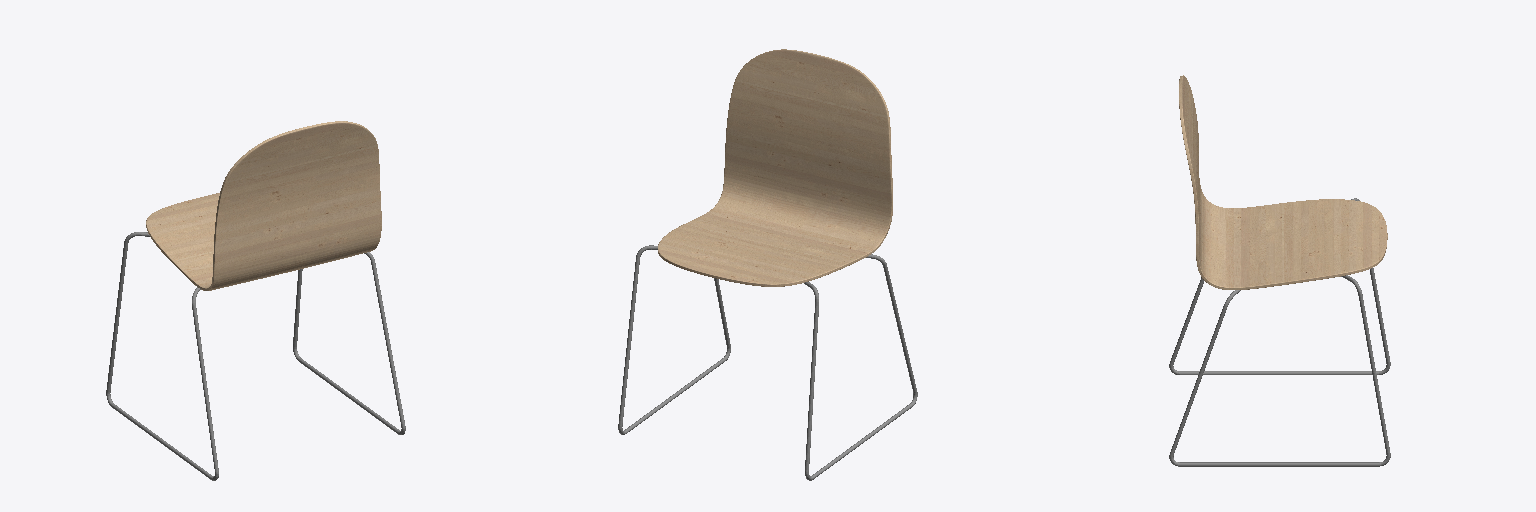
The picture shows the model from 3 angles: view 1: azimuth 30°, elevation 25°; view 2: azimuth 150°, elevation 25°; view 3: azimuth 270°, elevation 25°; orthographic projection.
Visible parts, largest first — view 1: Obj3d66_478477_3_156, Obj3d66_478477_4_454; view 2: Obj3d66_478477_3_156, Obj3d66_478477_4_454; view 3: Obj3d66_478477_3_156, Obj3d66_478477_4_454.
Part boxes in pixels (x1,y1,x2,y2): Obj3d66_478477_3_156: (146, 121, 381, 290); Obj3d66_478477_4_454: (106, 232, 405, 480); Obj3d66_478477_3_156: (658, 49, 892, 286); Obj3d66_478477_4_454: (618, 245, 917, 480); Obj3d66_478477_3_156: (1179, 75, 1387, 289); Obj3d66_478477_4_454: (1169, 198, 1390, 466).
Bounding box in the file's own units: 19.25 × 31.82 × 19.37.
1 materials, 1 textured.